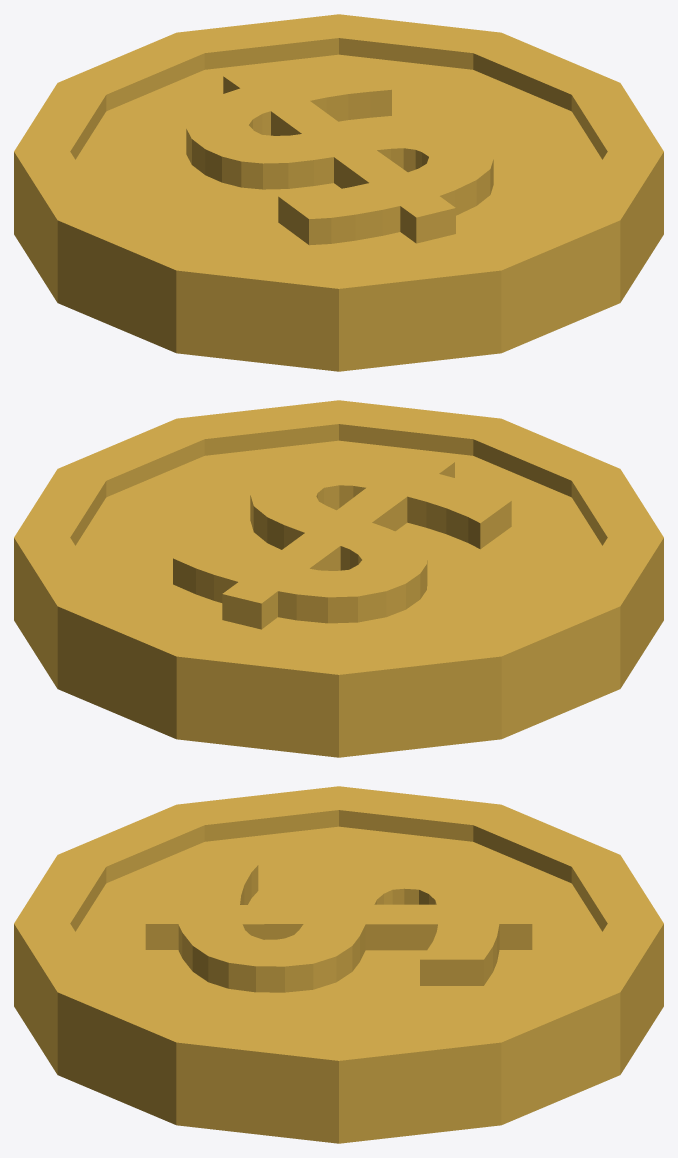
File: coinInGame.fbx
The picture shows the model from 3 angles, top to bottom: view 1: azimuth 30°, elevation 25°; view 2: azimuth 150°, elevation 25°; view 3: azimuth 270°, elevation 25°; orthographic projection.
Visible parts, largest first — view 1: CoinInGame; view 2: CoinInGame; view 3: CoinInGame.
Boxes of the visible parts, box(x1,y1,x2,y2) form: CoinInGame: box(14, 14, 663, 371); CoinInGame: box(14, 400, 663, 757); CoinInGame: box(14, 786, 663, 1143).
Size of the model in its own units: 1.32 by 0.2271 by 1.32.
